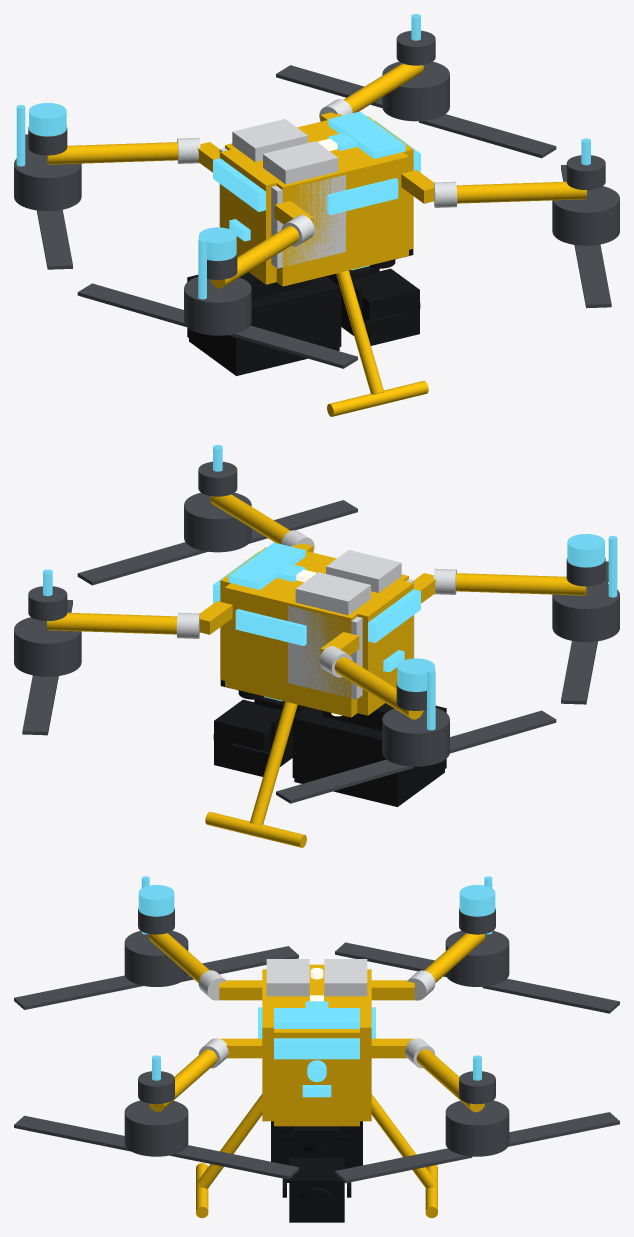
The model's file is skeleton_v1.glb.
The picture shows the model from 3 angles, top to bottom: view 1: azimuth 30°, elevation 25°; view 2: azimuth 150°, elevation 25°; view 3: azimuth 270°, elevation 25°; orthographic projection. The views are drawn at different scales.
Parts seen in each view (by area): view 1: body_shell, payload_box, battery_bay, motor_rr, motor_fr, camera_payload, motor_rl, gear_r, motor_fl, arm_rl, arm_fr, battery_r (+24 smaller); view 2: body_shell, payload_box, battery_bay, motor_rl, motor_fl, camera_payload, motor_rr, gear_l, motor_fr, arm_rr, arm_fl, battery_l (+24 smaller); view 3: body_shell, camera_payload, motor_fl, motor_fr, motor_rl, motor_rr, vision_front, prop_fl_blade_b, prop_rl_blade_b, vision_top, prop_rr_blade_a, prop_fr_blade_a (+23 smaller).
Part boxes in pixels (x1,y1,x2,y2): body_shell: (198, 112, 434, 286); payload_box: (187, 274, 341, 372); battery_bay: (219, 148, 345, 268); motor_rr: (184, 277, 251, 335); motor_fr: (552, 186, 619, 245); camera_payload: (352, 268, 420, 345); motor_rl: (14, 151, 81, 211); gear_r: (327, 270, 428, 416); motor_fl: (382, 61, 449, 121); arm_rl: (47, 142, 178, 164); arm_fr: (456, 181, 586, 203); battery_r: (263, 141, 338, 184); body_shell: (199, 543, 435, 717); payload_box: (292, 705, 446, 803); battery_bay: (288, 579, 414, 699); motor_rl: (382, 708, 449, 766); motor_fl: (14, 617, 81, 676); camera_payload: (213, 699, 281, 776); motor_rr: (552, 582, 619, 642); gear_l: (205, 701, 306, 847); motor_fr: (184, 492, 251, 552); arm_rr: (455, 573, 586, 595); arm_fl: (47, 612, 177, 634); battery_l: (295, 572, 370, 615); body_shell: (219, 964, 414, 1126); camera_payload: (289, 1157, 344, 1222); motor_fl: (445, 1100, 509, 1156); motor_fr: (124, 1100, 188, 1156); motor_rl: (445, 931, 509, 986); motor_rr: (124, 931, 188, 986); vision_front: (274, 1038, 359, 1059); prop_fl_blade_b: (335, 1148, 472, 1183); prop_rl_blade_b: (482, 978, 619, 1013); vision_top: (274, 1008, 359, 1028); prop_rr_blade_a: (14, 975, 142, 1009); prop_fr_blade_a: (170, 1145, 298, 1179).
Bounding box in the file's own units: 0.9651 × 0.43 × 1.06.
